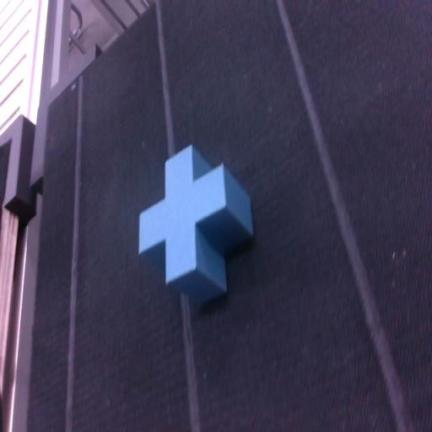cross: (140, 146, 253, 302)
